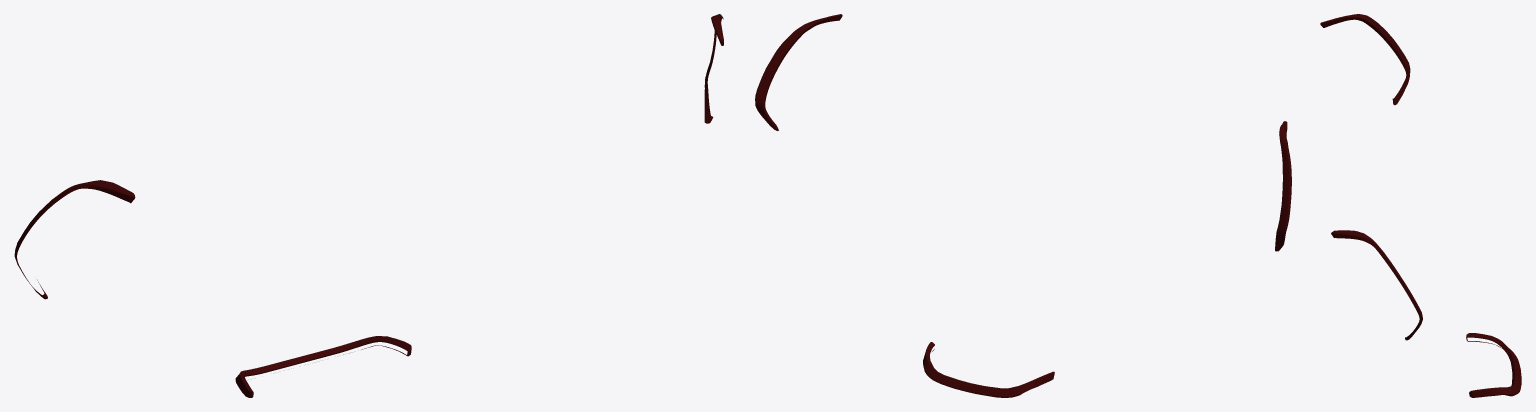
Rendered from TOYOTA_URBAN_CRUISER_MID_IN_STEERING_ACCENTS_MESH.glb.
The picture shows the model from 3 angles, left to right: view 1: azimuth 30°, elevation 25°; view 2: azimuth 150°, elevation 25°; view 3: azimuth 270°, elevation 25°; orthographic projection. The views are drawn at different scales.
Visible parts, largest first — view 1: TOYOTA_URBAN_CRUISER_MID_IN_STEERING_ACCENTS_MESH; view 2: TOYOTA_URBAN_CRUISER_MID_IN_STEERING_ACCENTS_MESH; view 3: TOYOTA_URBAN_CRUISER_MID_IN_STEERING_ACCENTS_MESH.
Boxes of the visible parts, <box> form: TOYOTA_URBAN_CRUISER_MID_IN_STEERING_ACCENTS_MESH: <box>14,14,723,397</box>; TOYOTA_URBAN_CRUISER_MID_IN_STEERING_ACCENTS_MESH: <box>755,14,1291,397</box>; TOYOTA_URBAN_CRUISER_MID_IN_STEERING_ACCENTS_MESH: <box>1320,14,1521,397</box>.
Bounding box in the file's own units: 0.3024 × 0.1426 × 0.1009.
